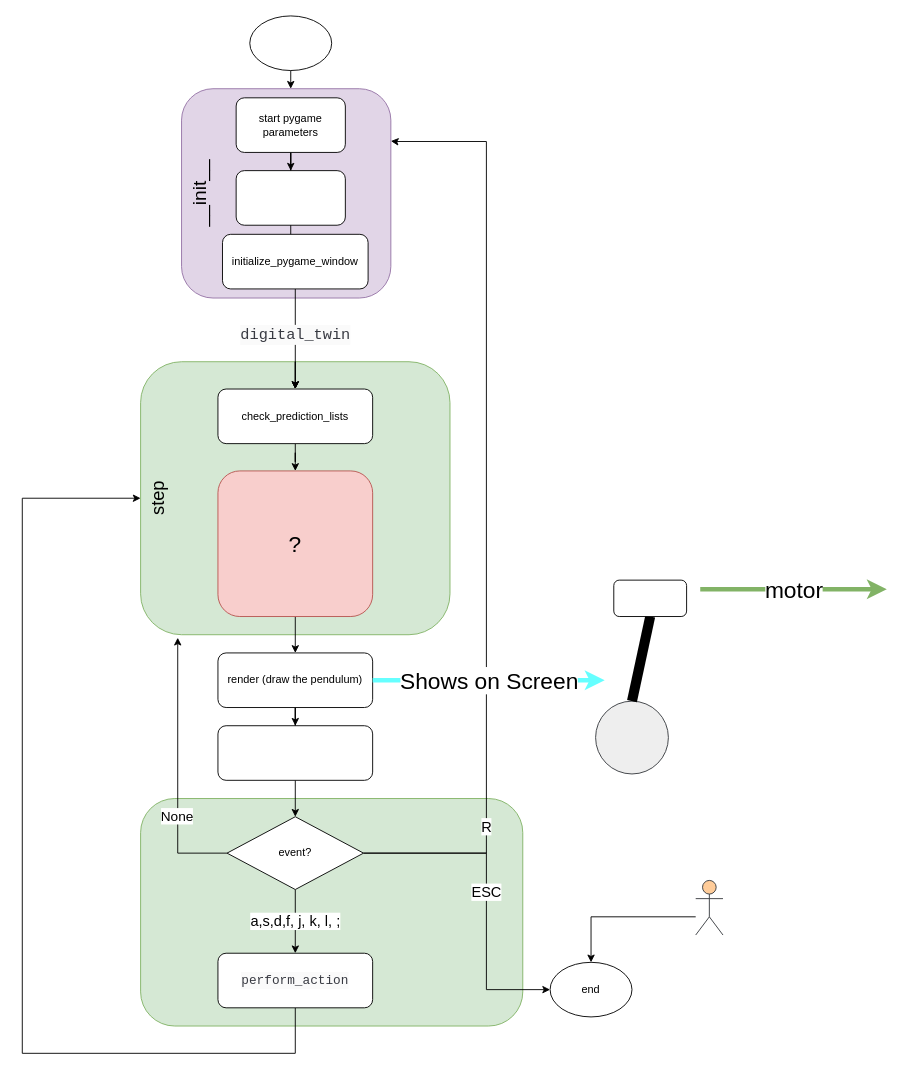
Some shapes in this 912 by 1077 pixel diagram are drawn without their labels. Here are the shapes that lost their labels. From the top down, the box of each, then its label:
(249, 15, 332, 71): start
(235, 170, 345, 225): configuration parameters
(217, 725, 373, 780): sleep
(140, 798, 523, 1026): Event (key pressed)
(695, 880, 723, 935): Keyboard Interruption (anytime) (Ctrl+C)
